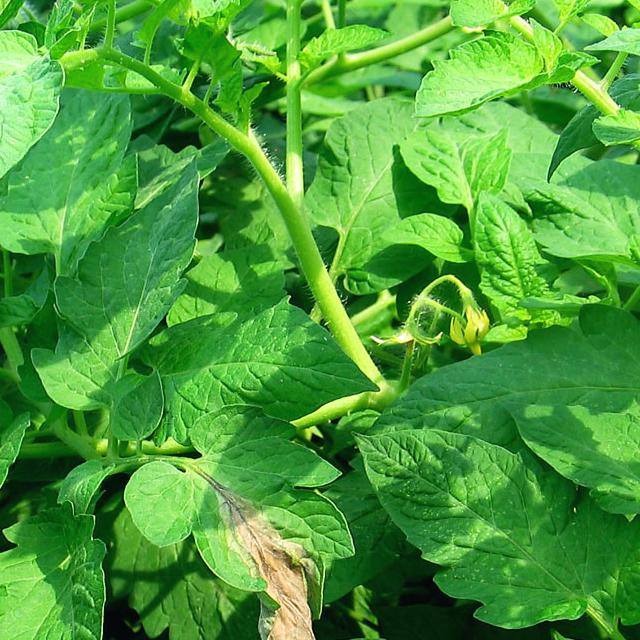Tomato leaf late blight: (355, 416, 640, 640), (29, 141, 223, 443), (136, 435, 351, 640), (0, 58, 133, 309), (0, 473, 113, 640), (526, 377, 640, 540), (400, 42, 568, 115), (534, 628, 640, 640)
